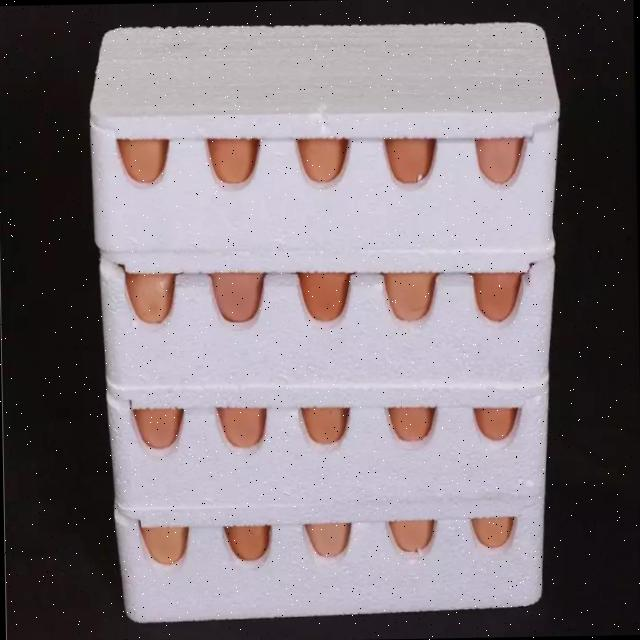styrofoam: (86, 16, 569, 624)
